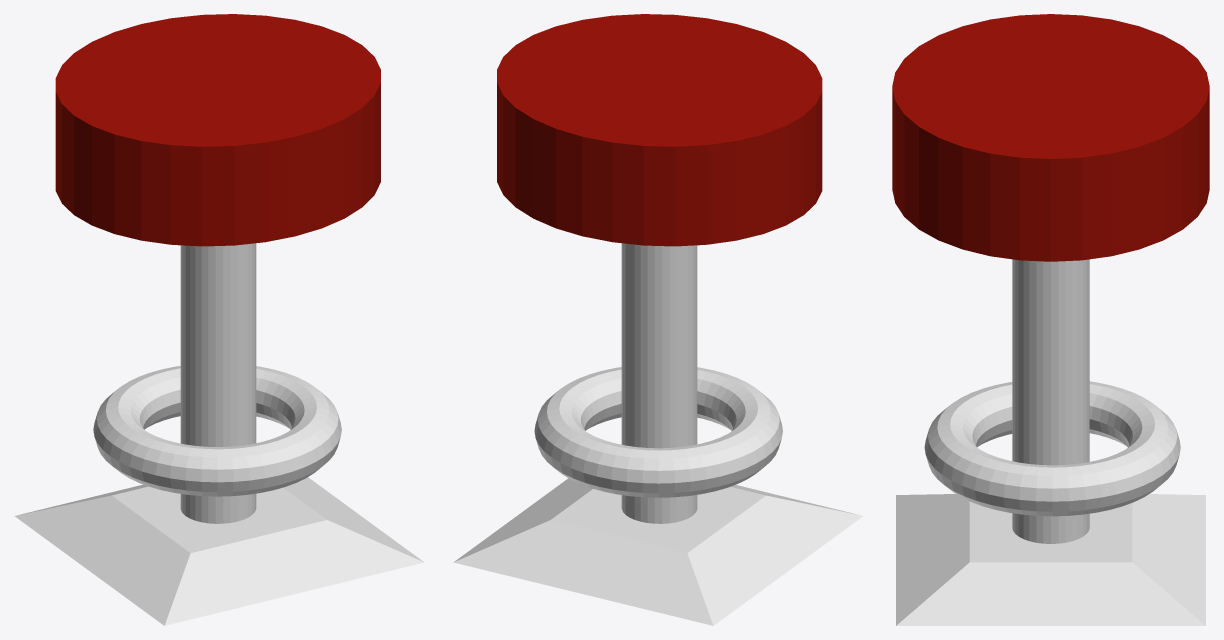
The model's file is SillaCasino.fbx.
3 renders of one model, left to right at view 1: azimuth 30°, elevation 25°; view 2: azimuth 150°, elevation 25°; view 3: azimuth 270°, elevation 25°, orthographic. The views are drawn at different scales.
Visible parts, largest first — view 1: Cube; view 2: Cube; view 3: Cube.
Boxes of the visible parts, x1,y1,x2,y2 form: Cube: (14,14,424,625); Cube: (453,14,863,625); Cube: (892,14,1209,625).
Size of the model in its own units: 387 by 588 by 358.
